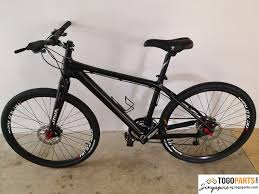bicycle: (3, 21, 259, 175)
